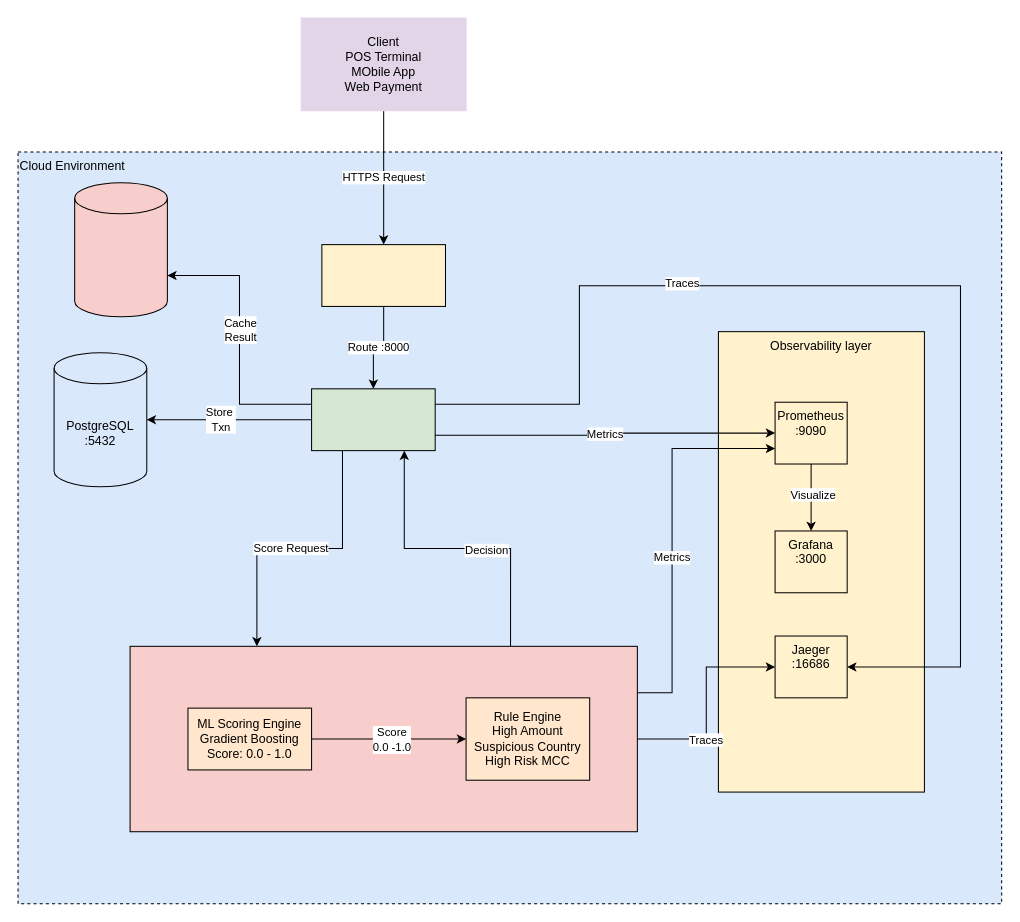
Some shapes in this 1020 by 922 pixel diagram are drawn without their labels. Each missing label, with the box of its shape:
API GATEWAY Trafic: 80: (321, 244, 445, 306)
Auth Service FastAPI; 8000: (311, 388, 435, 451)
CACHE Redis: 6379: (74, 182, 167, 317)
Fraud Service FastAPI; 8000: (129, 645, 637, 832)
